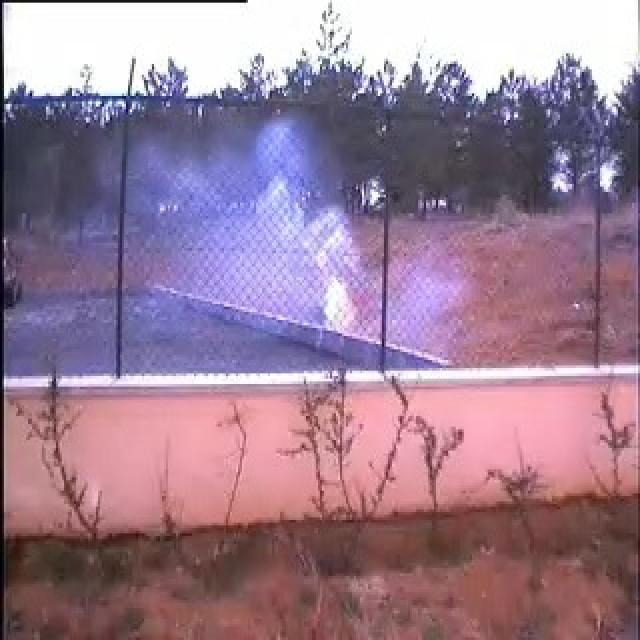smoke: (86, 127, 383, 358)
